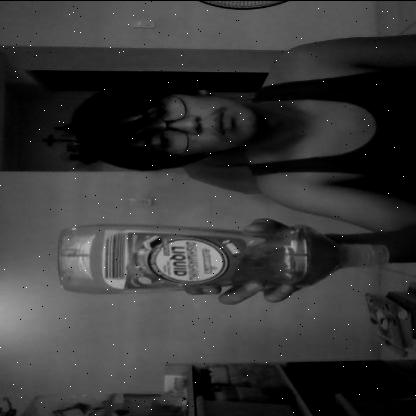Plastic Bottle: (61, 215, 401, 298)
